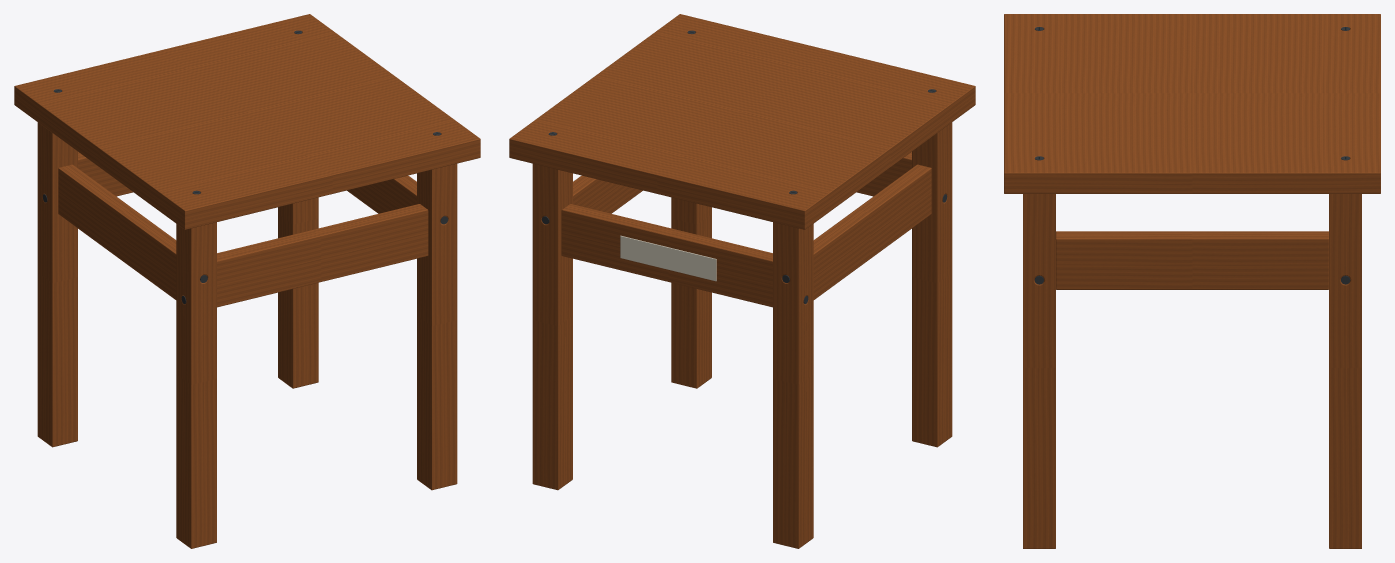
File: Hocker01_Raw.fbx
3 views of the same model, side by side, from view 1: azimuth 30°, elevation 25°; view 2: azimuth 150°, elevation 25°; view 3: azimuth 270°, elevation 25° (orthographic). The views are drawn at different scales.
Parts seen in each view (by area): view 1: Seat__WoodRaw.019, Leg_1__WoodRaw.019, Leg_3__WoodRaw.018, RailX_1__WoodRaw.009, Leg_2__WoodRaw.018, RailY_1__WoodRaw.009, Leg_4__WoodRaw.018, RailY_2__WoodRaw.009, RailX_2__WoodRaw.009; view 2: Seat__WoodRaw.019, Leg_2__WoodRaw.018, Leg_4__WoodRaw.018, Leg_1__WoodRaw.019, RailX_2__WoodRaw.009, RailY_1__WoodRaw.009, Leg_3__WoodRaw.018, StagePlaque__Label.018, RailY_2__WoodRaw.009, RailX_1__WoodRaw.009; view 3: Seat__WoodRaw.019, RailY_2__WoodRaw.009, Leg_3__WoodRaw.018, Leg_4__WoodRaw.018.
Boxes of the visible parts, x1,y1,x2,y2 form: Seat__WoodRaw.019: (14, 14, 480, 229); Leg_1__WoodRaw.019: (176, 222, 216, 548); Leg_3__WoodRaw.018: (417, 163, 457, 490); RailX_1__WoodRaw.009: (217, 204, 428, 307); Leg_2__WoodRaw.018: (37, 122, 77, 447); RailY_1__WoodRaw.009: (58, 164, 176, 299); Leg_4__WoodRaw.018: (278, 197, 318, 388); RailY_2__WoodRaw.009: (347, 175, 416, 213); RailX_2__WoodRaw.009: (78, 152, 132, 196); Seat__WoodRaw.019: (509, 14, 975, 229); Leg_2__WoodRaw.018: (773, 222, 813, 548); Leg_4__WoodRaw.018: (532, 163, 572, 490); Leg_1__WoodRaw.019: (912, 122, 952, 447); RailX_2__WoodRaw.009: (561, 204, 772, 307); RailY_1__WoodRaw.009: (813, 164, 931, 299); Leg_3__WoodRaw.018: (671, 197, 711, 388); StagePlaque__Label.018: (620, 235, 716, 281); RailY_2__WoodRaw.009: (573, 175, 642, 213); RailX_1__WoodRaw.009: (857, 152, 911, 196); Seat__WoodRaw.019: (1004, 14, 1380, 193); RailY_2__WoodRaw.009: (1056, 231, 1328, 289); Leg_3__WoodRaw.018: (1023, 194, 1055, 548); Leg_4__WoodRaw.018: (1329, 194, 1361, 548).
Bounding box in the file's own units: 40 × 45 × 40.
4 materials, 1 textured.
